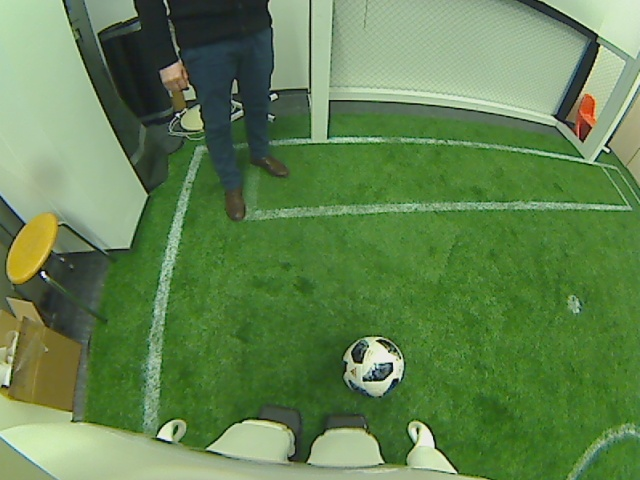ball: (339, 333, 405, 400)
